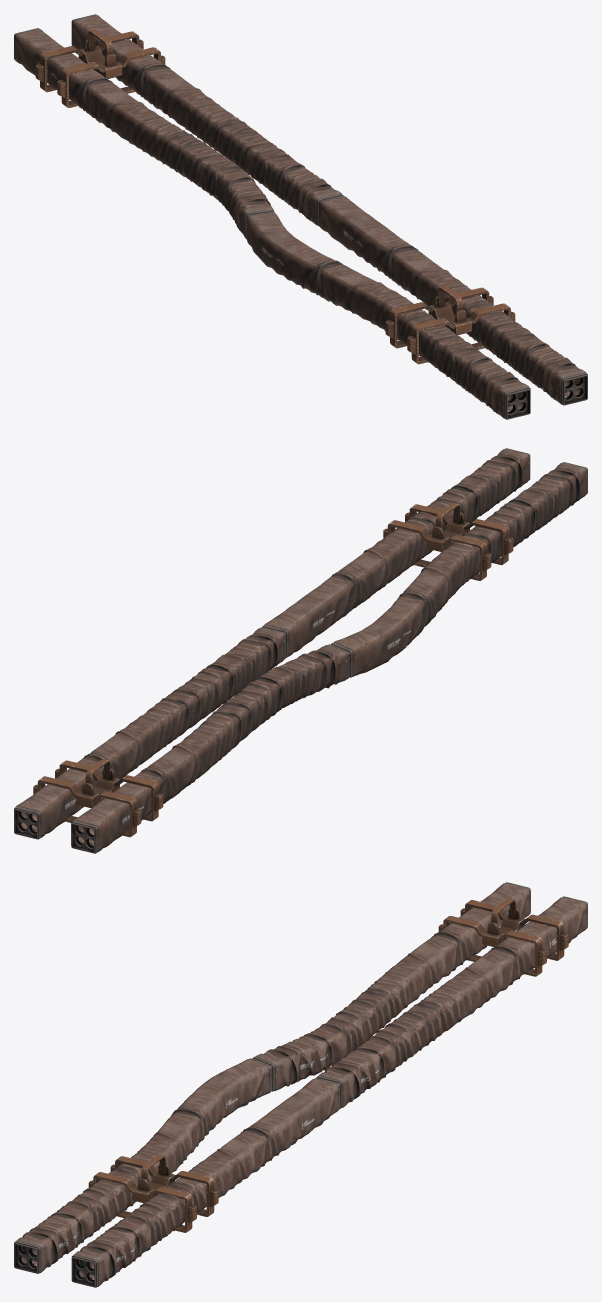
The model's file is SM_Wire02_LineStyle03.fbx.
3 views of the same model, one above another, from view 1: azimuth 30°, elevation 25°; view 2: azimuth 150°, elevation 25°; view 3: azimuth 330°, elevation 25° (orthographic).
Parts seen in each view (by area): view 1: SM_Wire02_LineStyle03_LOD0; view 2: SM_Wire02_LineStyle03_LOD0; view 3: SM_Wire02_LineStyle03_LOD0.
Boxes of the visible parts, box(x1,y1,x2,y2) form: SM_Wire02_LineStyle03_LOD0: box(14, 14, 587, 419); SM_Wire02_LineStyle03_LOD0: box(14, 448, 587, 853); SM_Wire02_LineStyle03_LOD0: box(14, 882, 587, 1287).
Bounding box in the file's own units: 56.04 × 404 × 23.43.
Materials: 1 (1 with a texture image).
